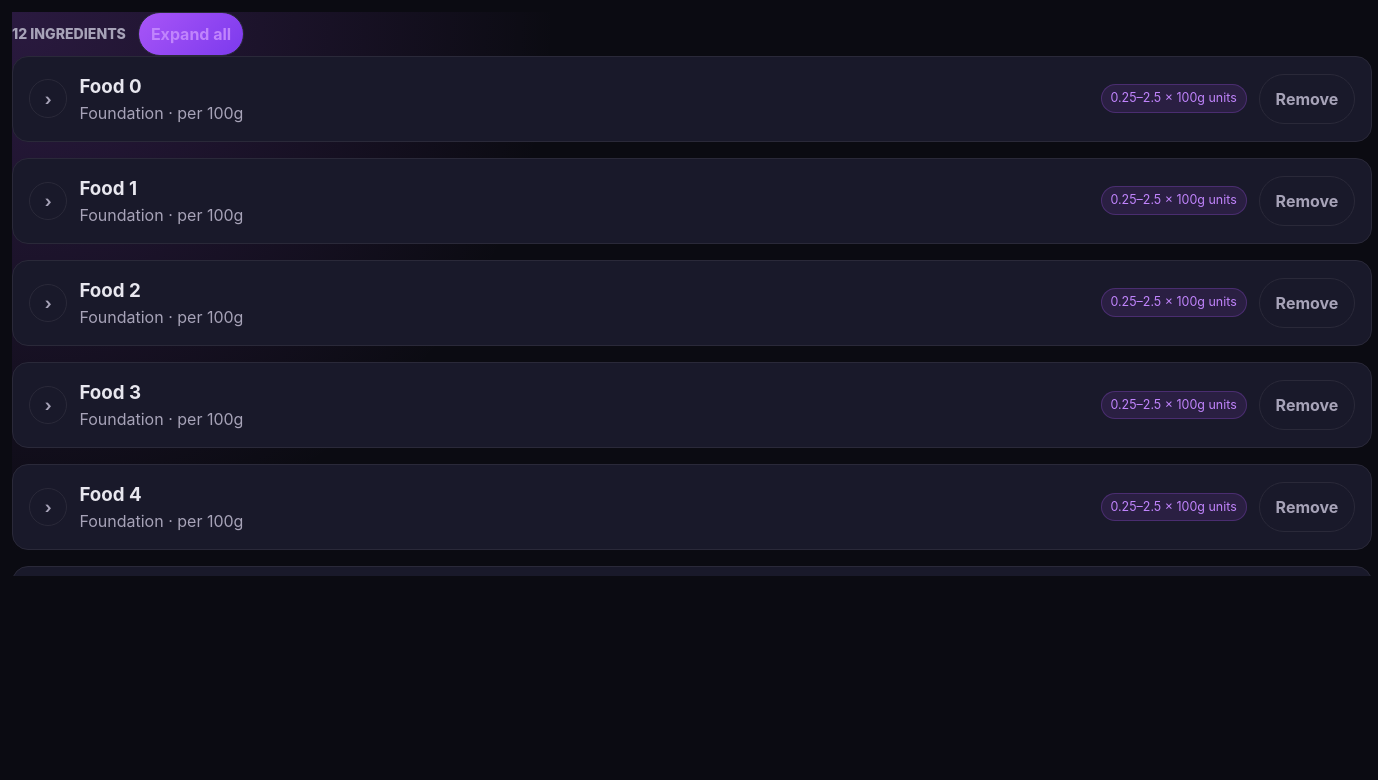
Scenario: IngredientList › defaults many foods to collapsed, then expands and collapses all rows from the lightweight list header
The image size is (1378, 780).
Click the button with aria-label "Expand all ingredients" at (191, 34), box [138, 12, 244, 56]
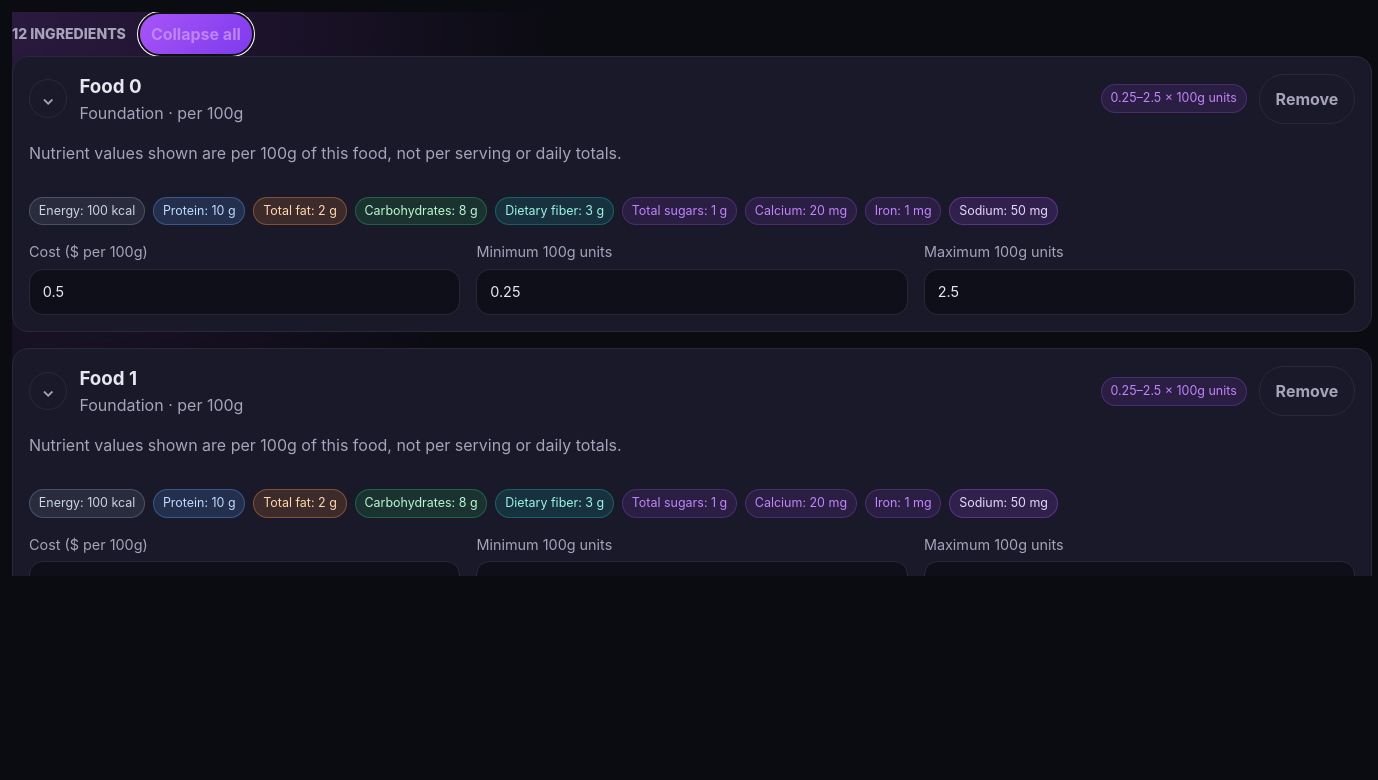
Now the text "Energy: 100 kcal" is shown 12 times
Click the button with aria-label "Collapse all ingredients" at (196, 34), box [138, 12, 254, 56]
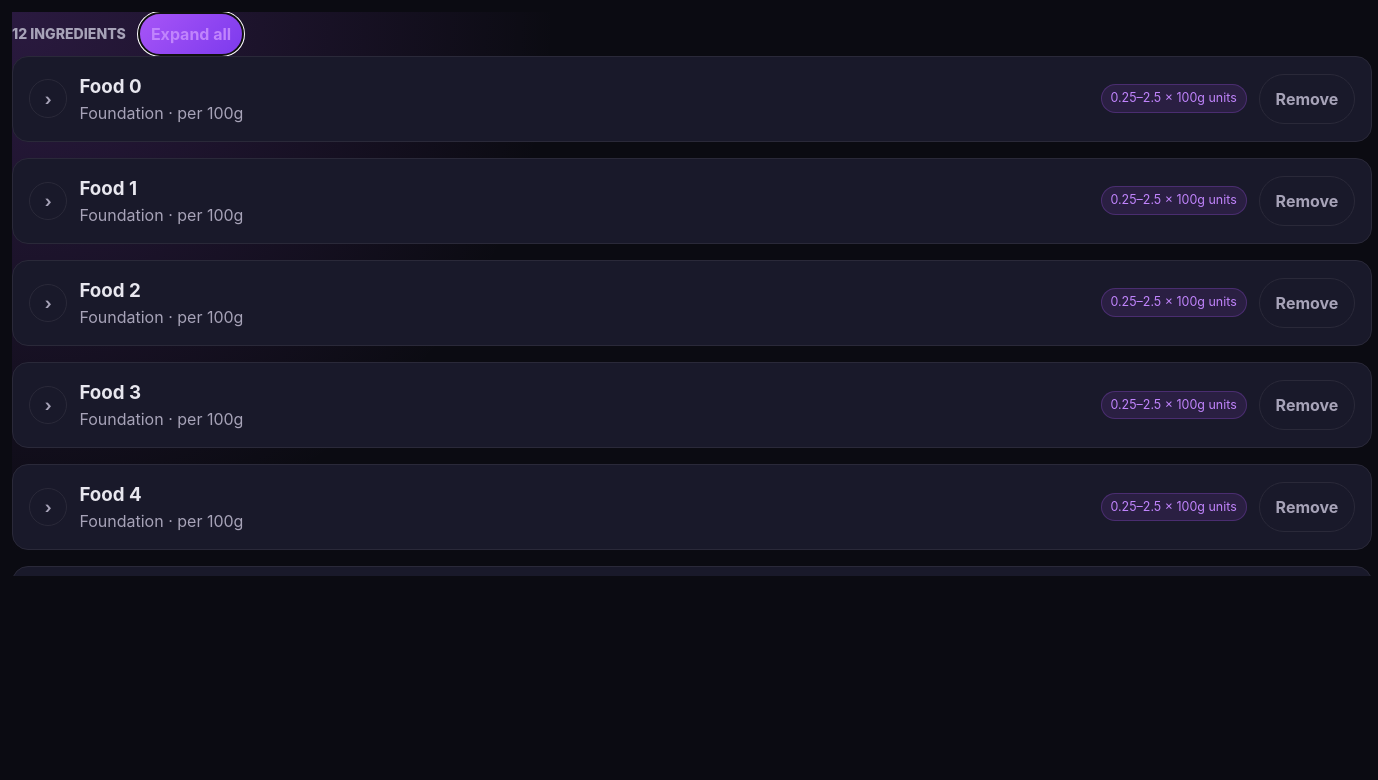
Now the text "Energy: 100 kcal" is not shown
